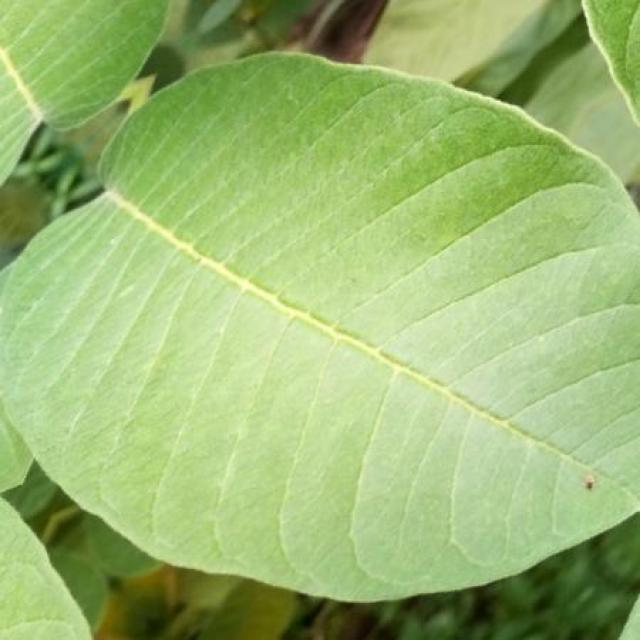Disease Free: (0, 54, 640, 599), (0, 0, 166, 183)
